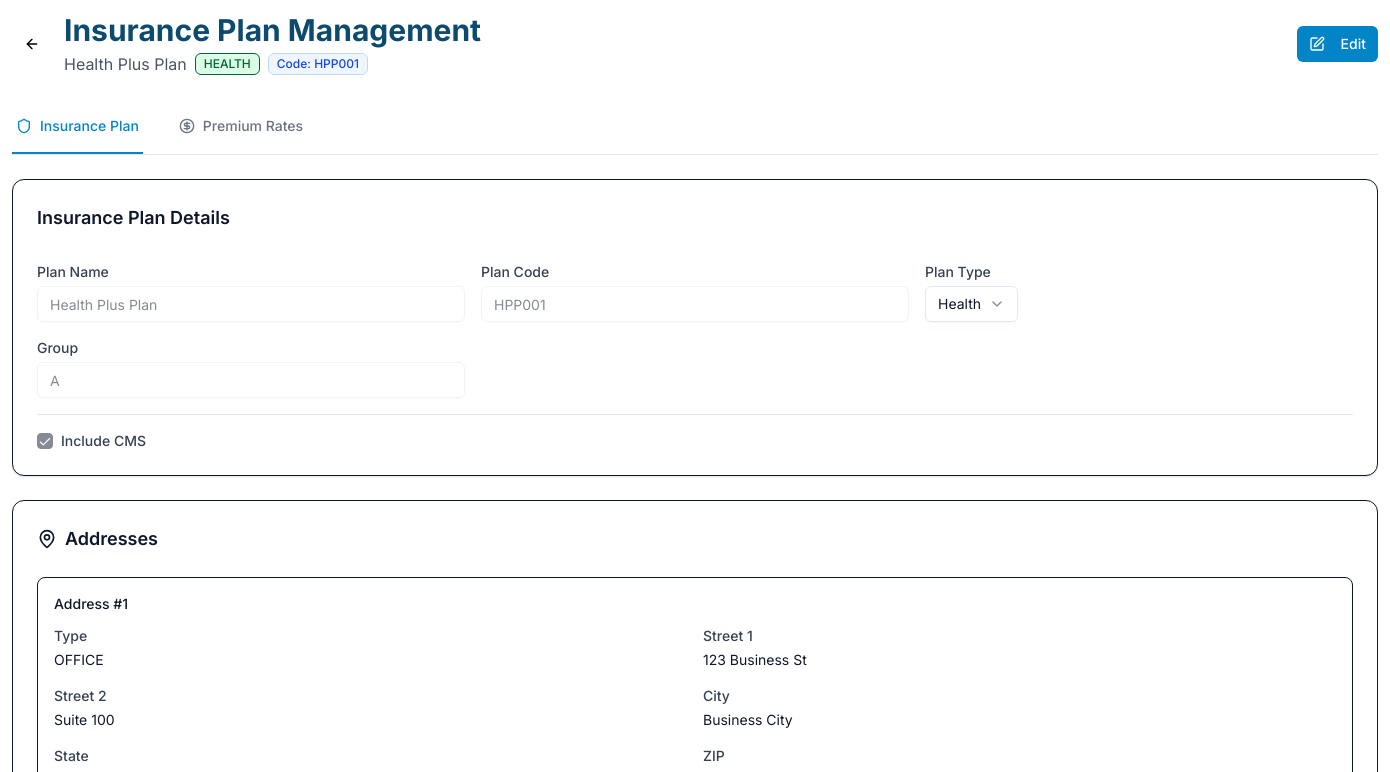
Test: InsurancePlanDetailPage › Tab Navigation › should switch to different tabs when clicked
# Switch to premium rates tab
Click the button "Premium Rates". click: [241, 127]
box: [175,100,307,154]
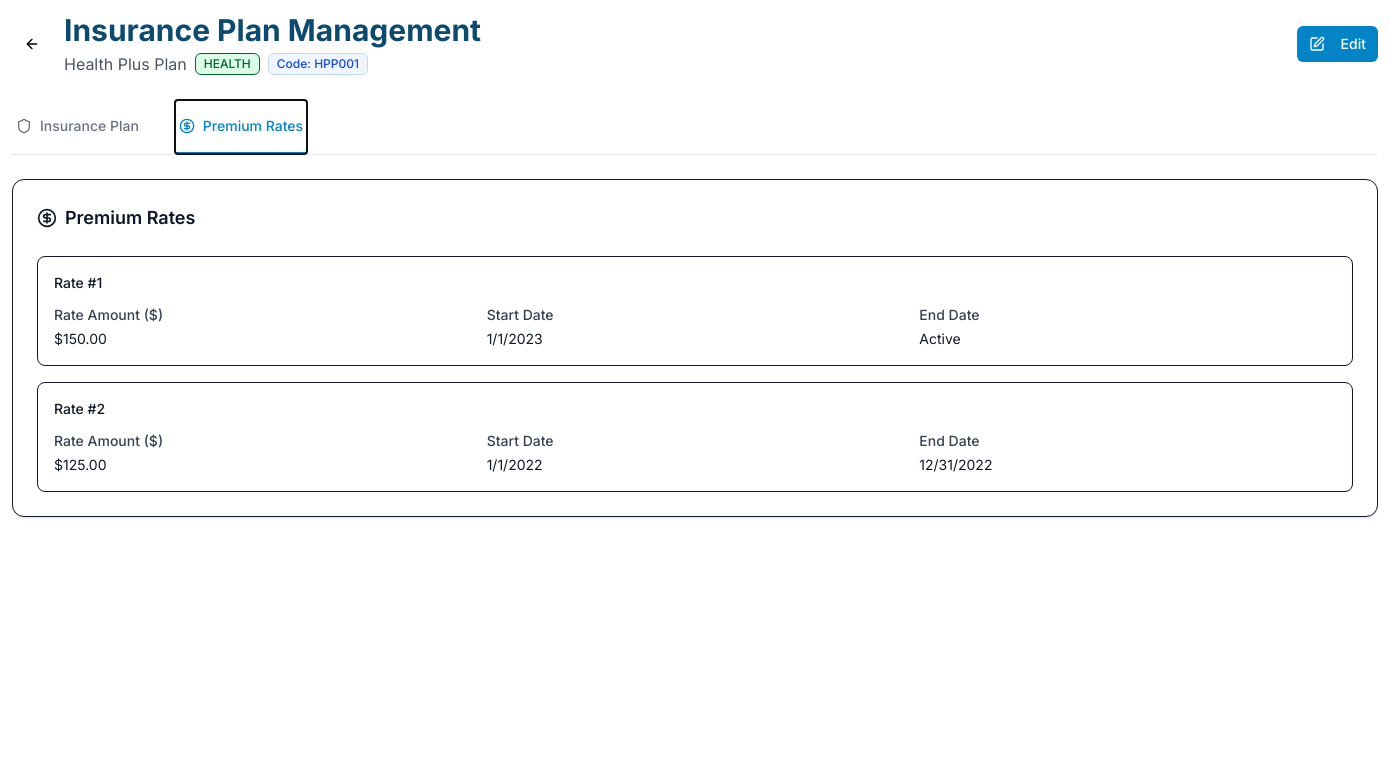
expect the text "$150.00" is shown: met, box [54,330,107,347]
